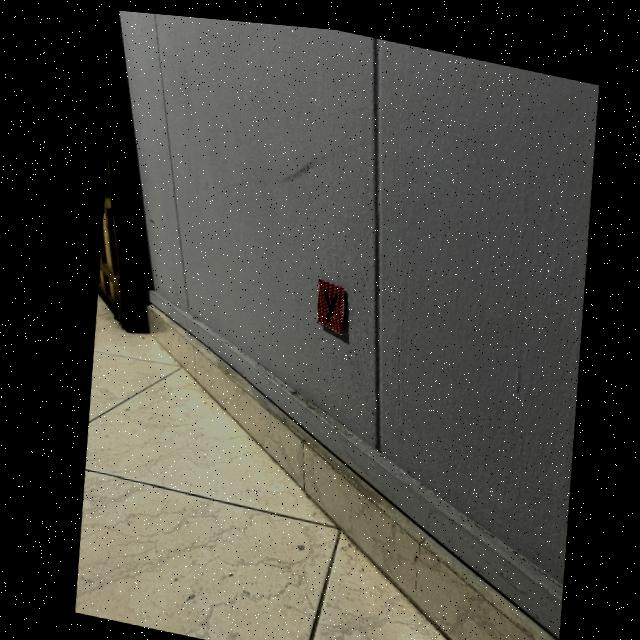Y: (320, 281, 335, 315)
